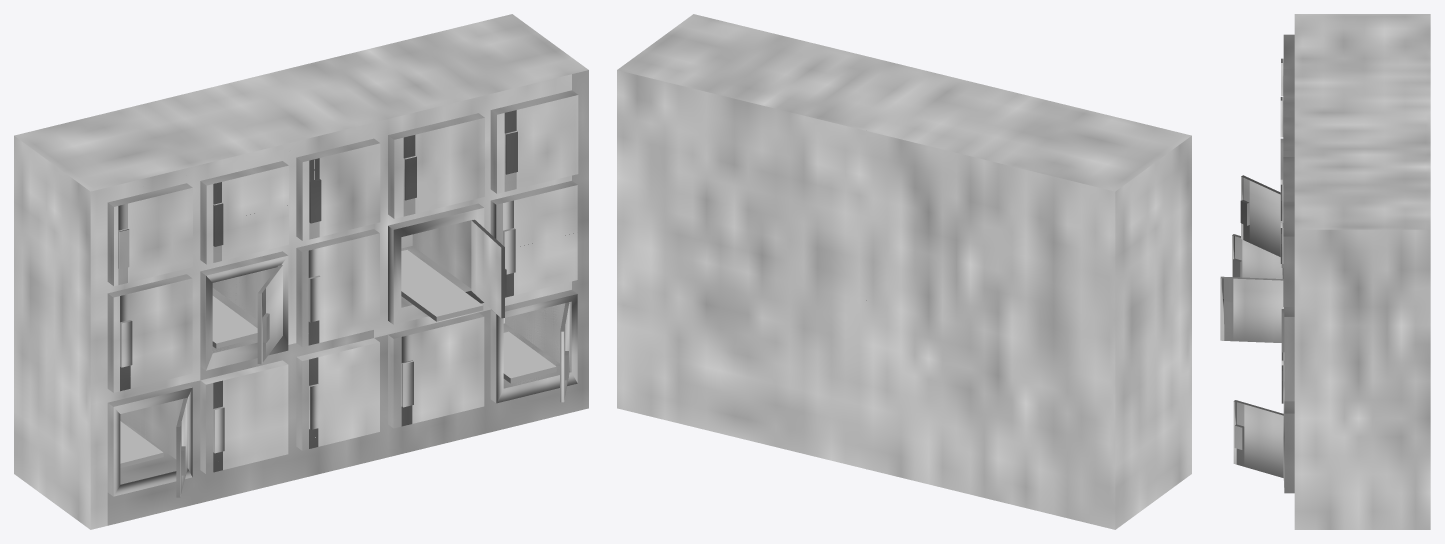
File: obitorio_colorato 1.fbx
3 renders of one model, left to right at view 1: azimuth 30°, elevation 25°; view 2: azimuth 150°, elevation 25°; view 3: azimuth 270°, elevation 25°, orthographic. The views are drawn at different scales.
Parts seen in each view (by area): view 1: Generic, Generic_4, Generic_1, Generic_2, Cube_1, Cube_2, Cube_3, Generic_3, Cube; view 2: Generic; view 3: Generic, Generic_1, Cube, Generic_2, Generic_3.
Boxes of the visible parts, bbox=[...] form: Generic: bbox=[14, 14, 588, 529]; Generic_4: bbox=[401, 250, 483, 321]; Generic_1: bbox=[471, 219, 506, 318]; Generic_2: bbox=[257, 265, 282, 364]; Cube_1: bbox=[503, 331, 556, 383]; Cube_2: bbox=[212, 296, 257, 348]; Cube_3: bbox=[120, 421, 163, 467]; Generic_3: bbox=[176, 398, 187, 497]; Cube: bbox=[560, 302, 569, 402]; Generic: bbox=[617, 14, 1191, 529]; Generic: bbox=[1280, 14, 1430, 529]; Generic_1: bbox=[1220, 276, 1283, 342]; Cube: bbox=[1233, 400, 1283, 477]; Generic_2: bbox=[1240, 175, 1283, 256]; Generic_3: bbox=[1232, 234, 1282, 278].
Size of the model in its own units: 8.97 by 5.82 by 3.69.
Materials: 2 (1 with a texture image).
